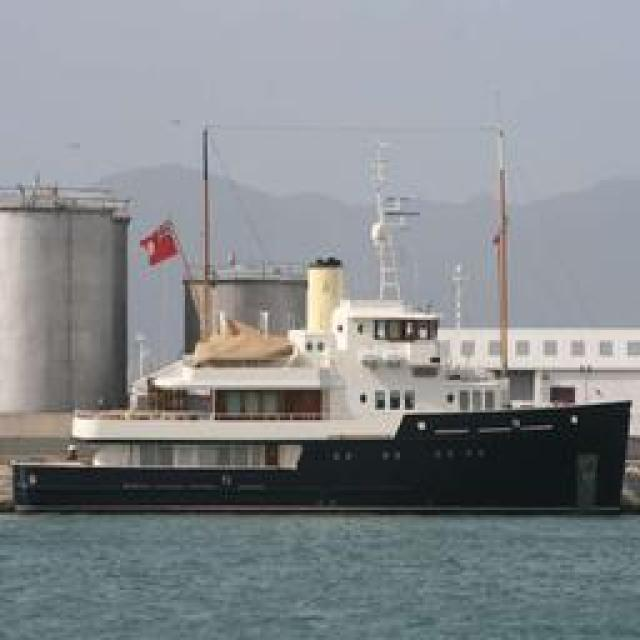CIV_Ship: (36, 214, 619, 508)
